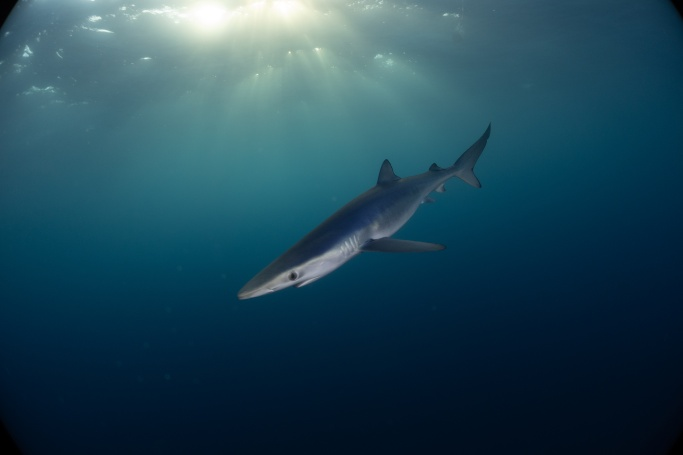Azul: (202, 108, 505, 304)
